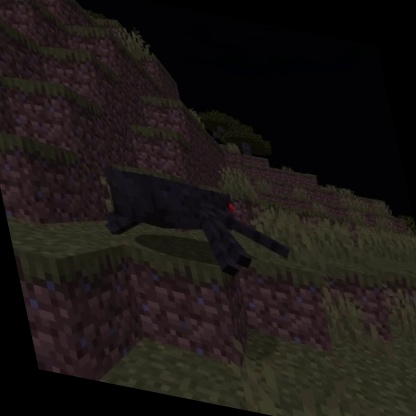spider: (87, 160, 302, 295)
